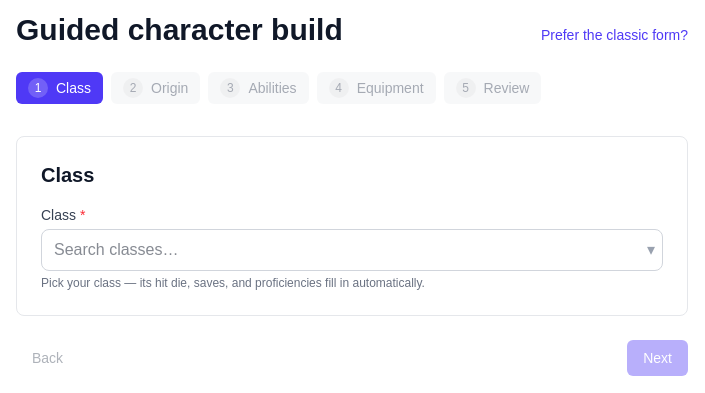
it: GuidedCharacterPage — wizard shell › gates forward jumps on the progress bar behind incomplete required steps
Expected: the button "5 Review" is disabled, [444,72,542,104]
Type "Bard" into the dropdown labelled "Class *" at (352, 250), box [41,229,663,271]
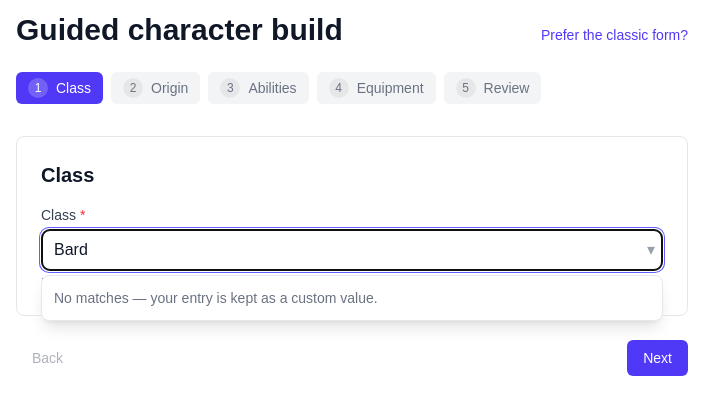
Expected: the button "Next" is enabled, [627,340,688,376]
Expected: the button "5 Review" is enabled, [444,72,542,104]
